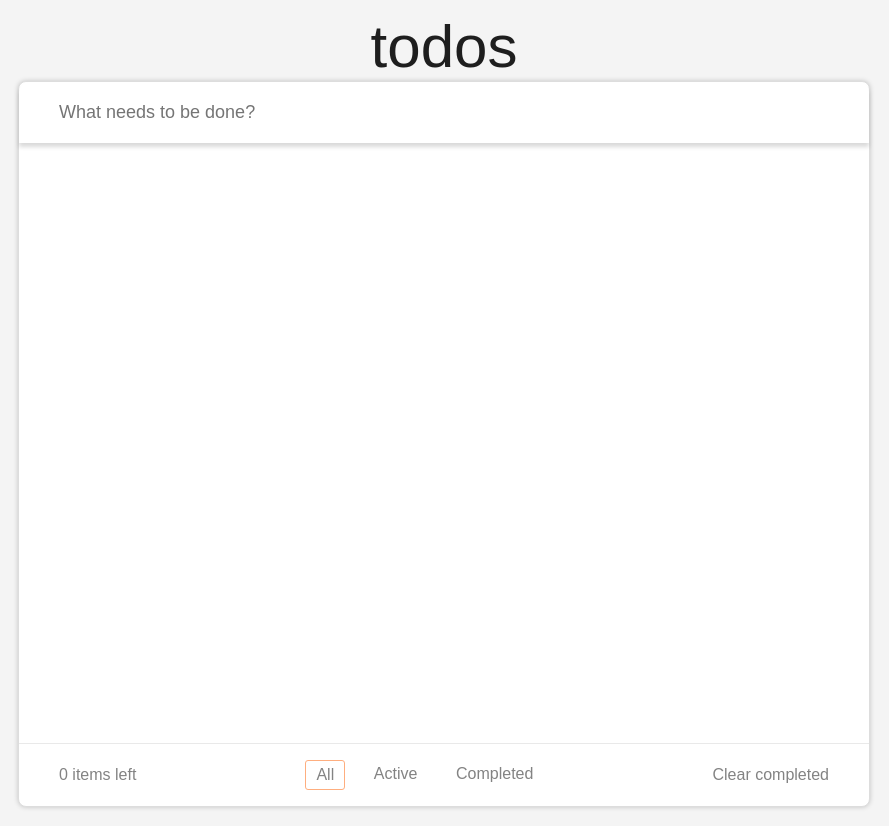
Test: TodoApp › Очистка выполненных задач
Step 1. Type "Новая задача" into the field with placeholder "What needs to be done?" → point(444, 112), box [19,82,869,143]
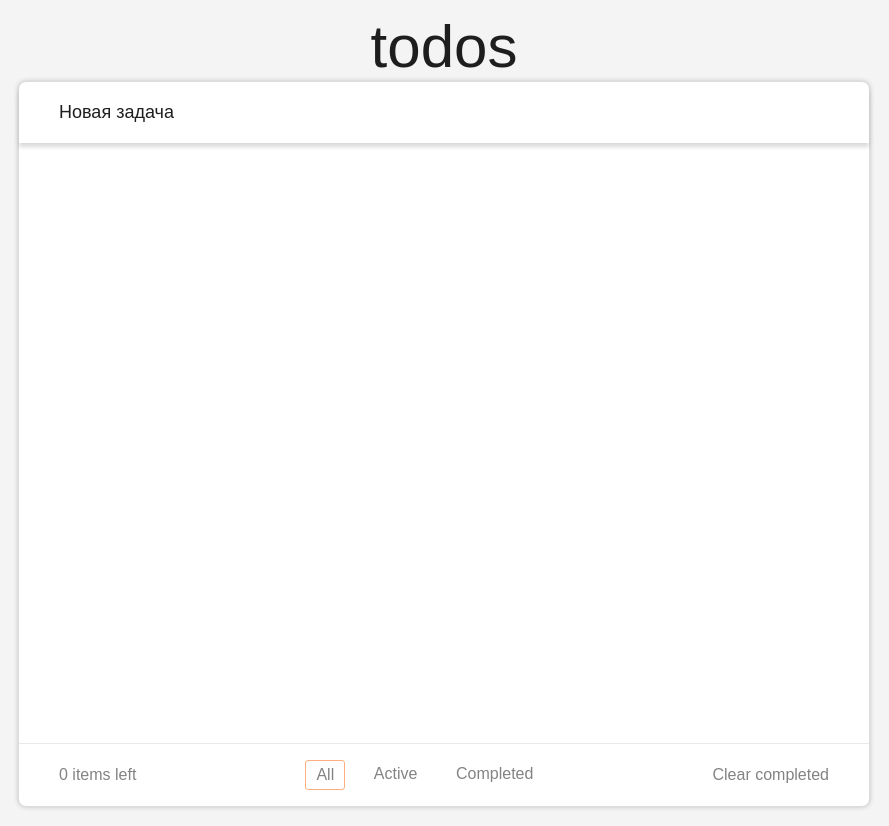
Step 2. Press Enter in the field with placeholder "What needs to be done?", box [19,82,869,143]
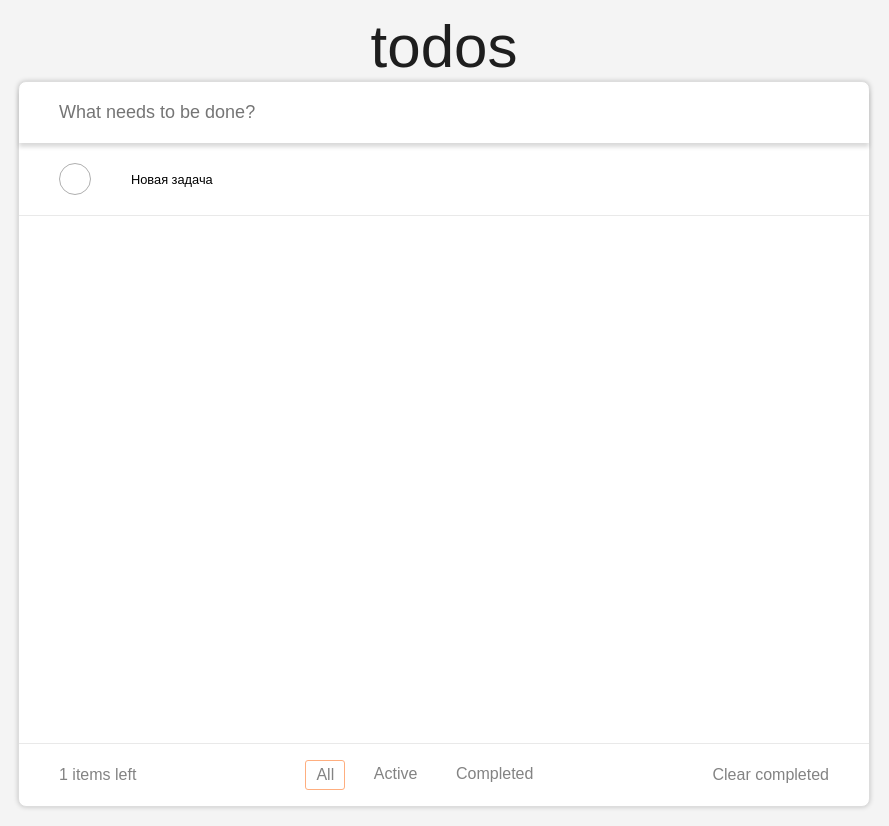
Expected: the text "Новая задача" is shown, [131,172,213,186]
Step 3. Click the checkbox → point(75, 179), box [59,163,91,195]
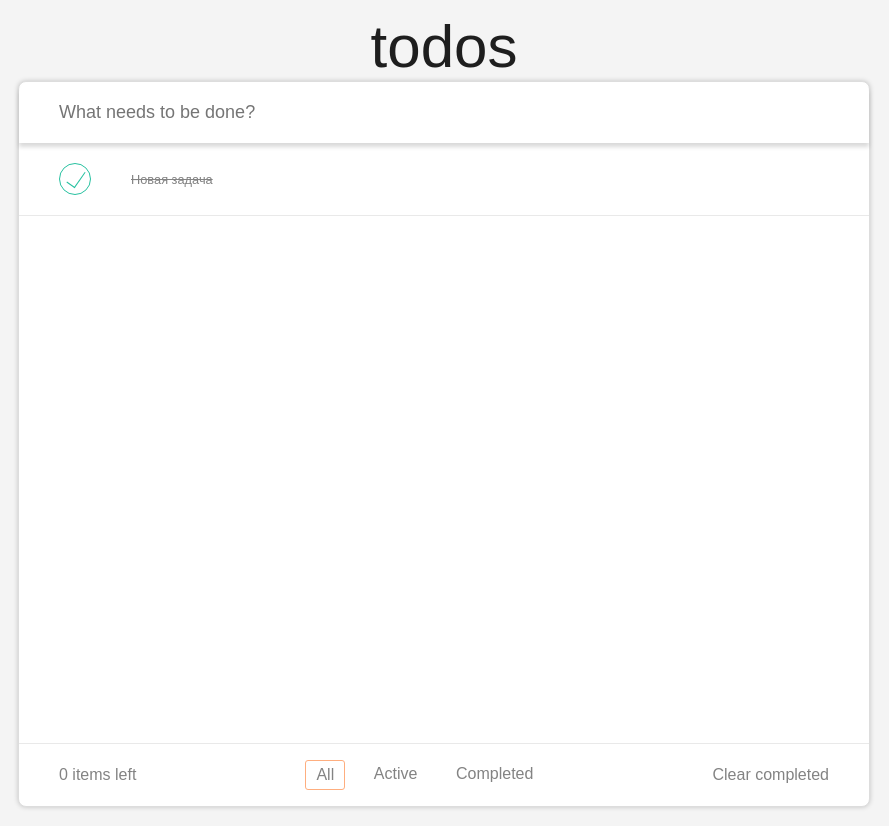
Expected: the checkbox is checked, [59,163,91,195]
Step 4. Click the text "Clear completed" → point(771, 775), box [712,766,829,784]
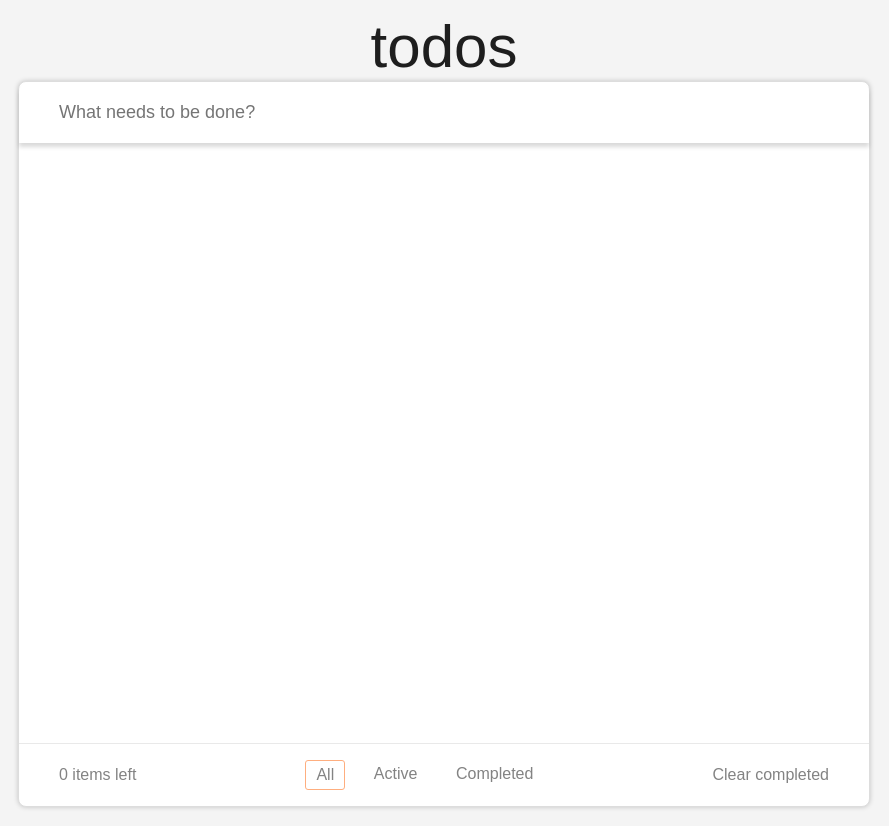
Expected: the text "Новая задача" is gone
